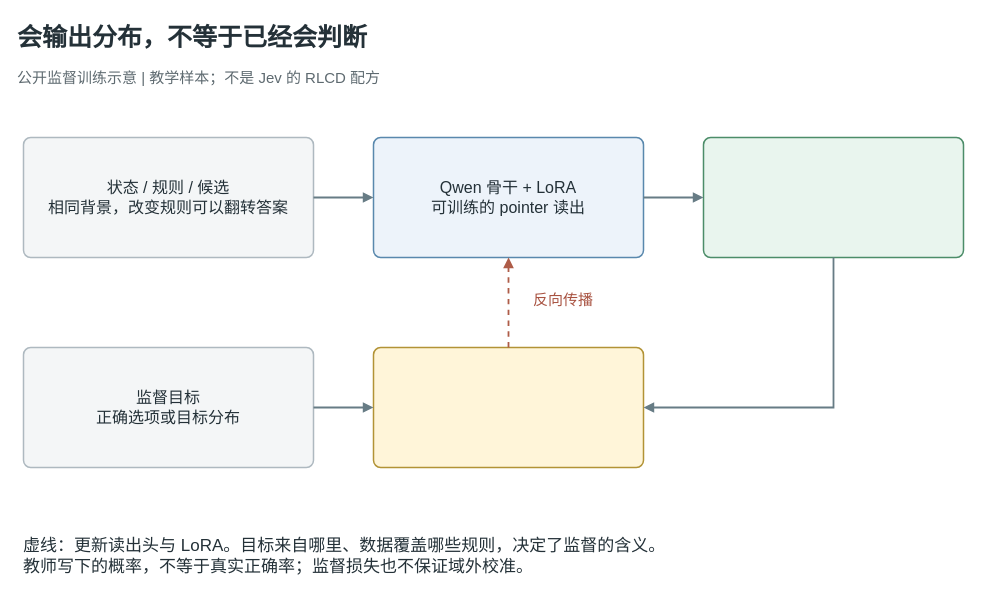
The diagram is 986 pixels wide and 604 high, and some of its shapes have lost their labels. The box of each missing label's shape, as (x1, y1, x2, y2) in pixels:
损失 交叉熵 / 软目标分布匹配: (372, 346, 644, 468)
预测 候选 logits / 分布: (702, 136, 964, 258)
